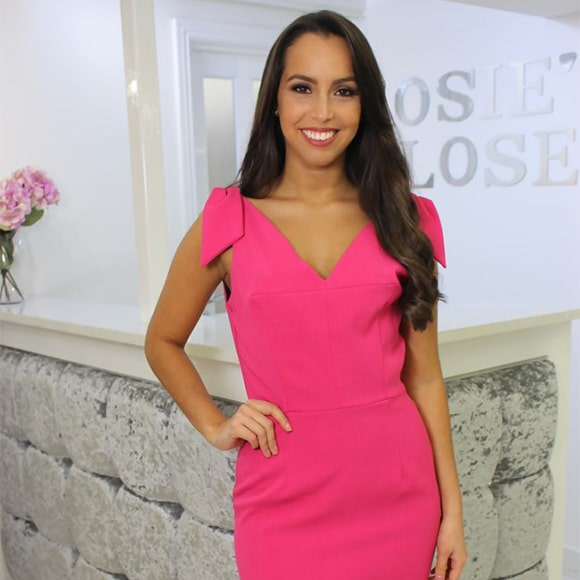C_dress: (174, 174, 452, 574)
